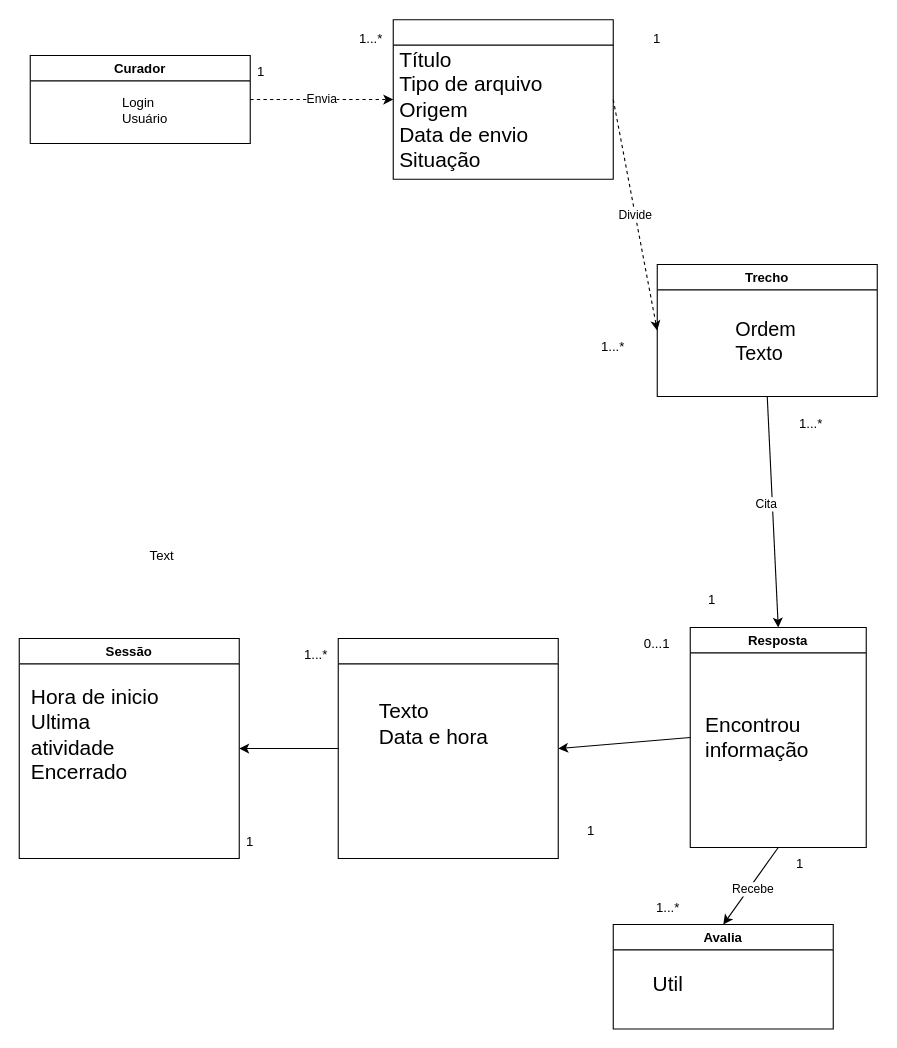
Some shapes in this 897 by 1048 pixel diagram are drawn without their labels. The shapes that lost their labels are listed below. From the top down, each one's box as (x1, y1, x2, y2) in pixels, then its label:
(392, 19, 613, 179): Documento
(337, 637, 558, 859): Pergunta
